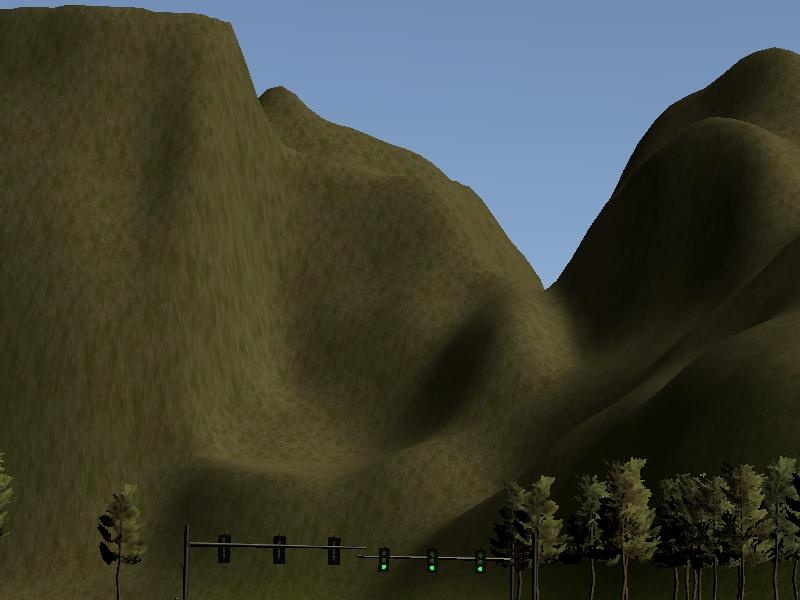green: (472, 547, 487, 578), (375, 547, 390, 575), (424, 549, 439, 575)
